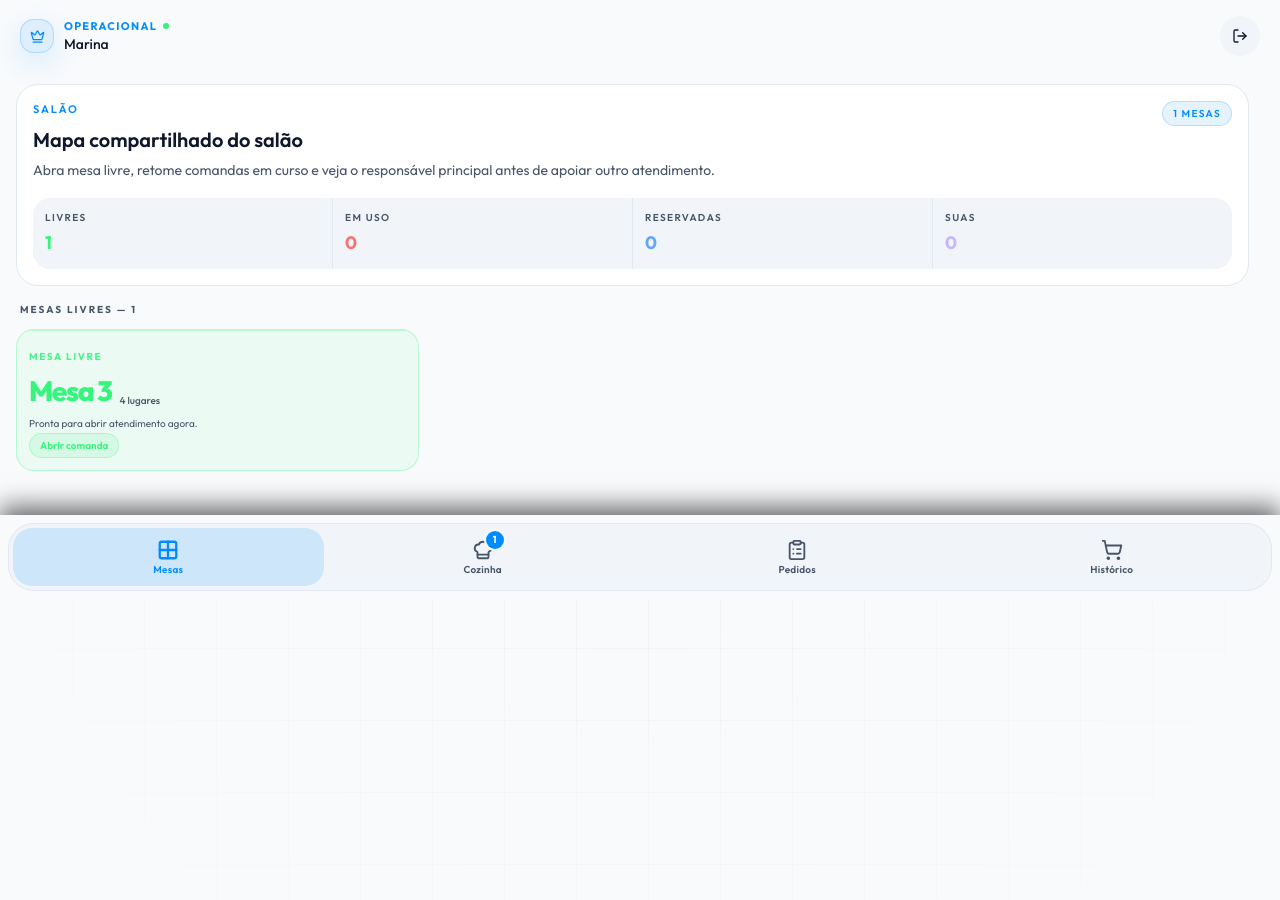
Scenario: StaffMobileShell › não tenta abrir caixa automaticamente quando o conflito é da mesa, não do caixa
This screenshot has width=1280, height=900.
Click the button with test id "mobile-mesa-mesa-3" at (66, 356), box 16,328 -> 419,470
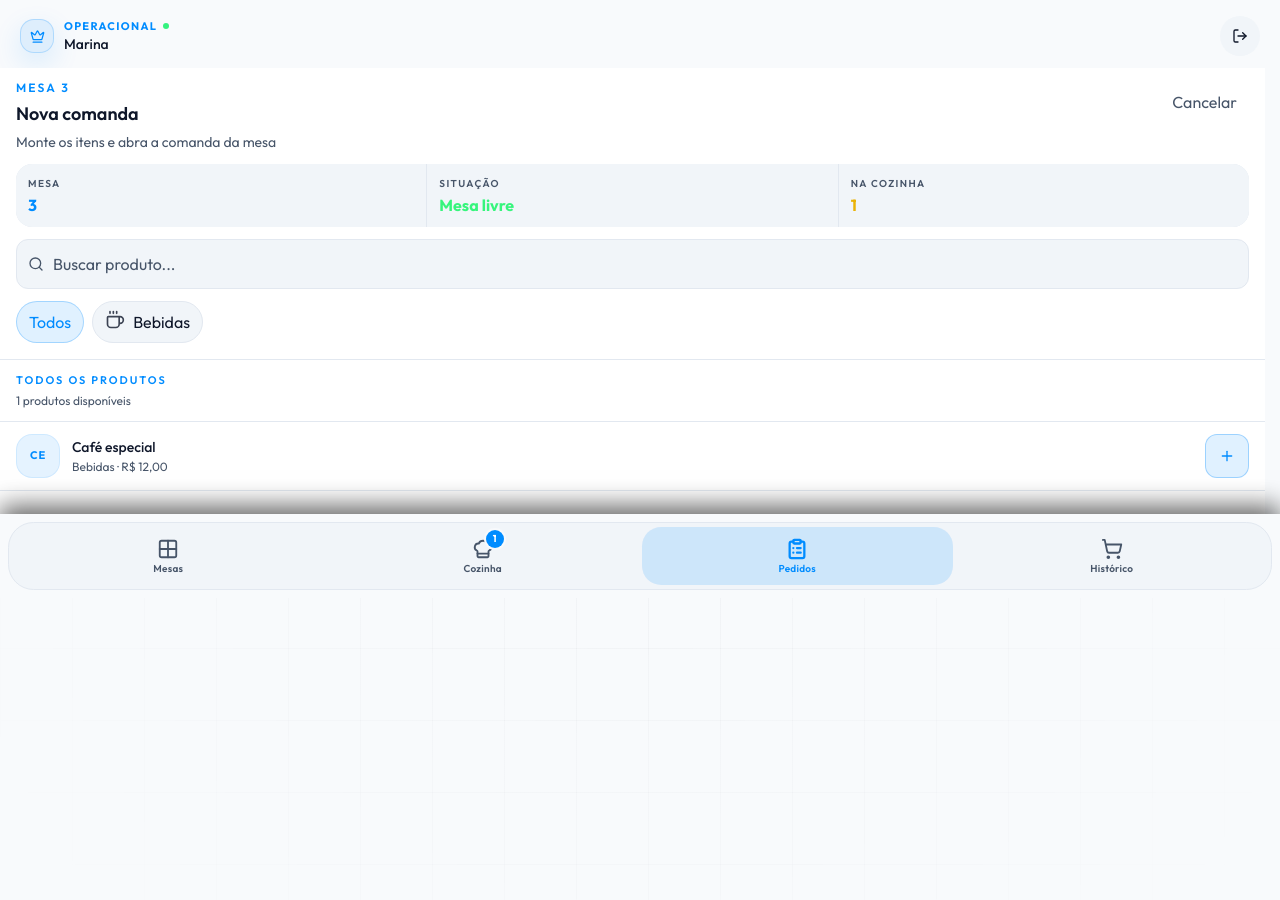
Click the button "Bebidas" at (148, 322), box 92,301 -> 203,343
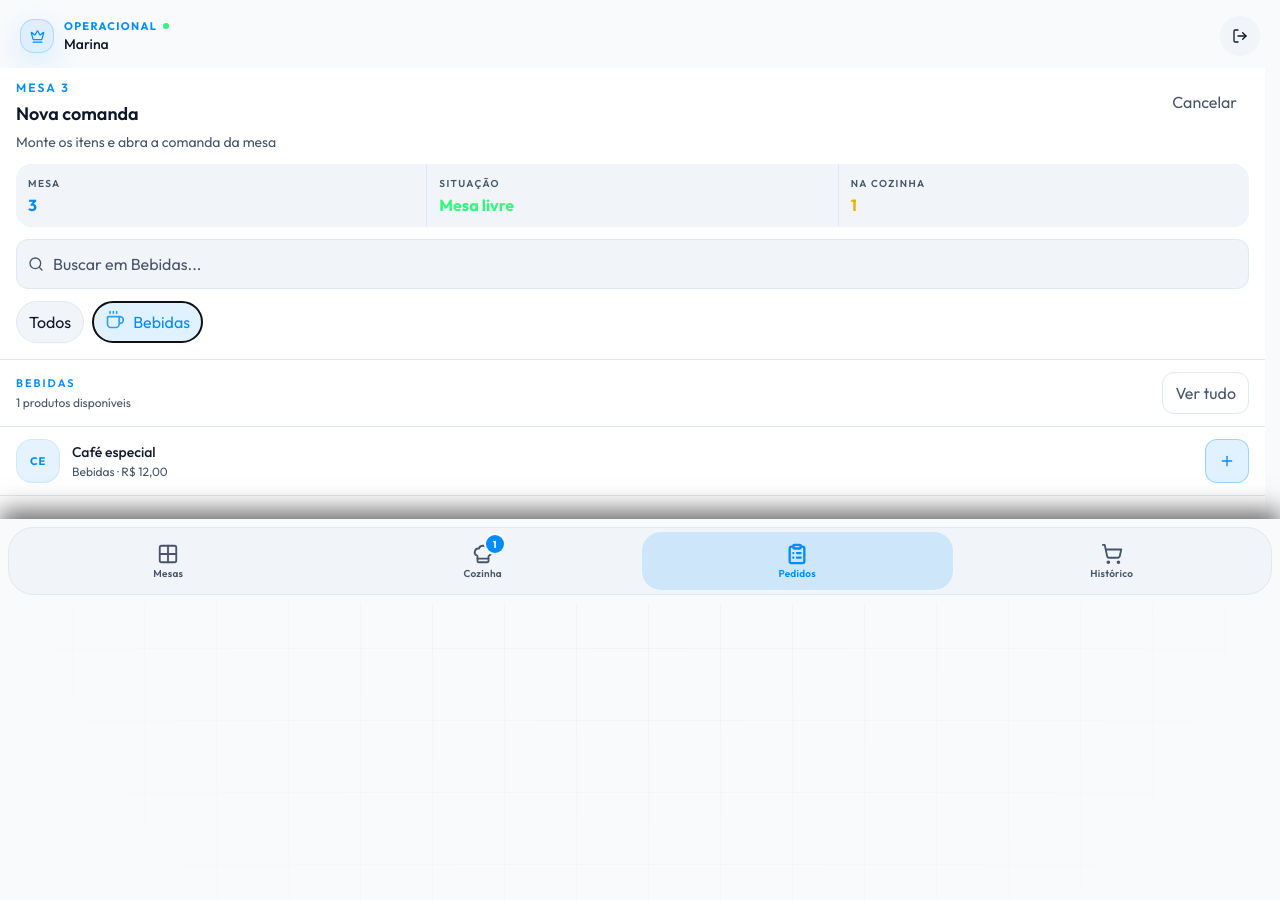
Click the button named "Adicionar Café especial" at (1227, 461), box 1205,439 -> 1249,483
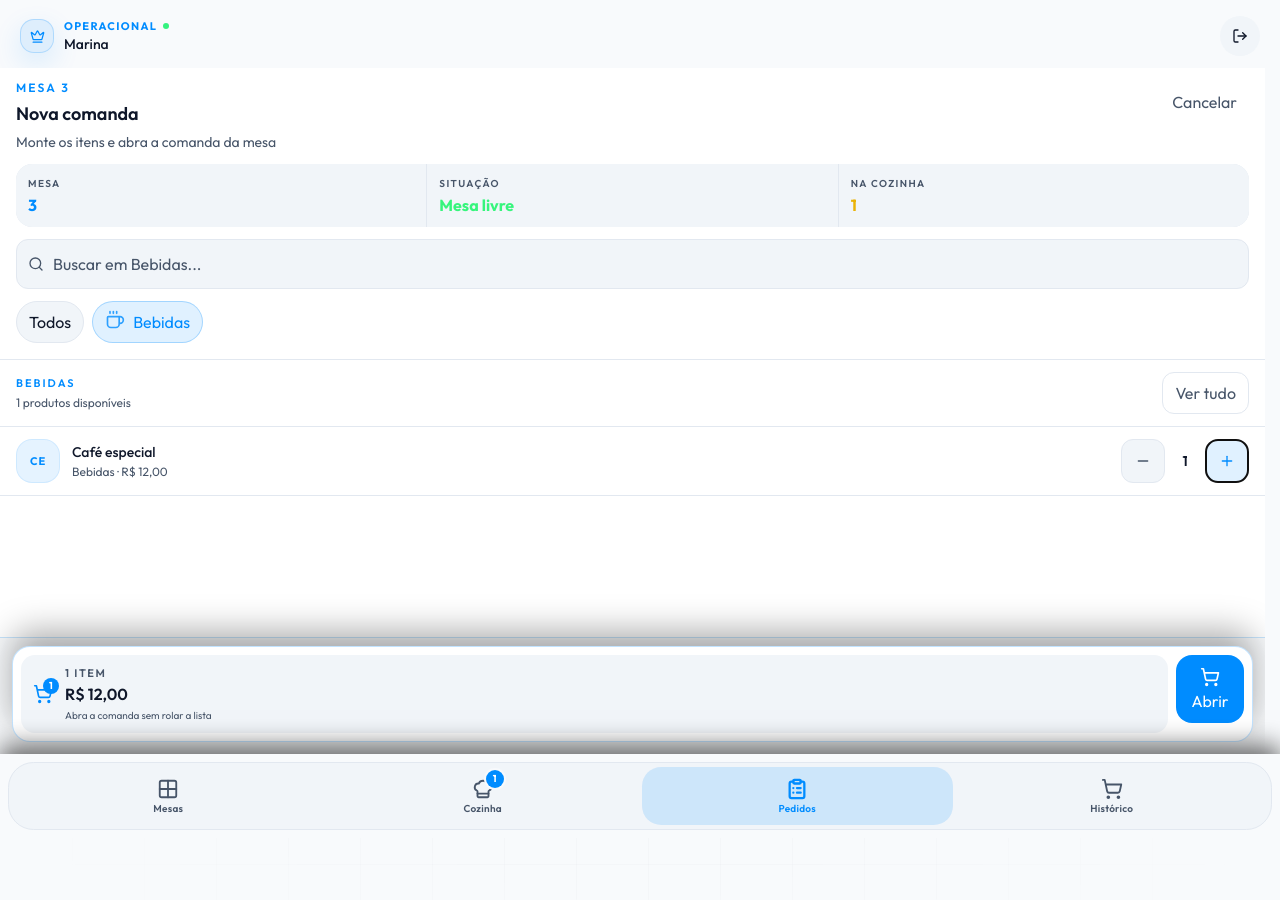
Click the button named "Abrir comanda" at (1210, 689), box 1176,655 -> 1244,723
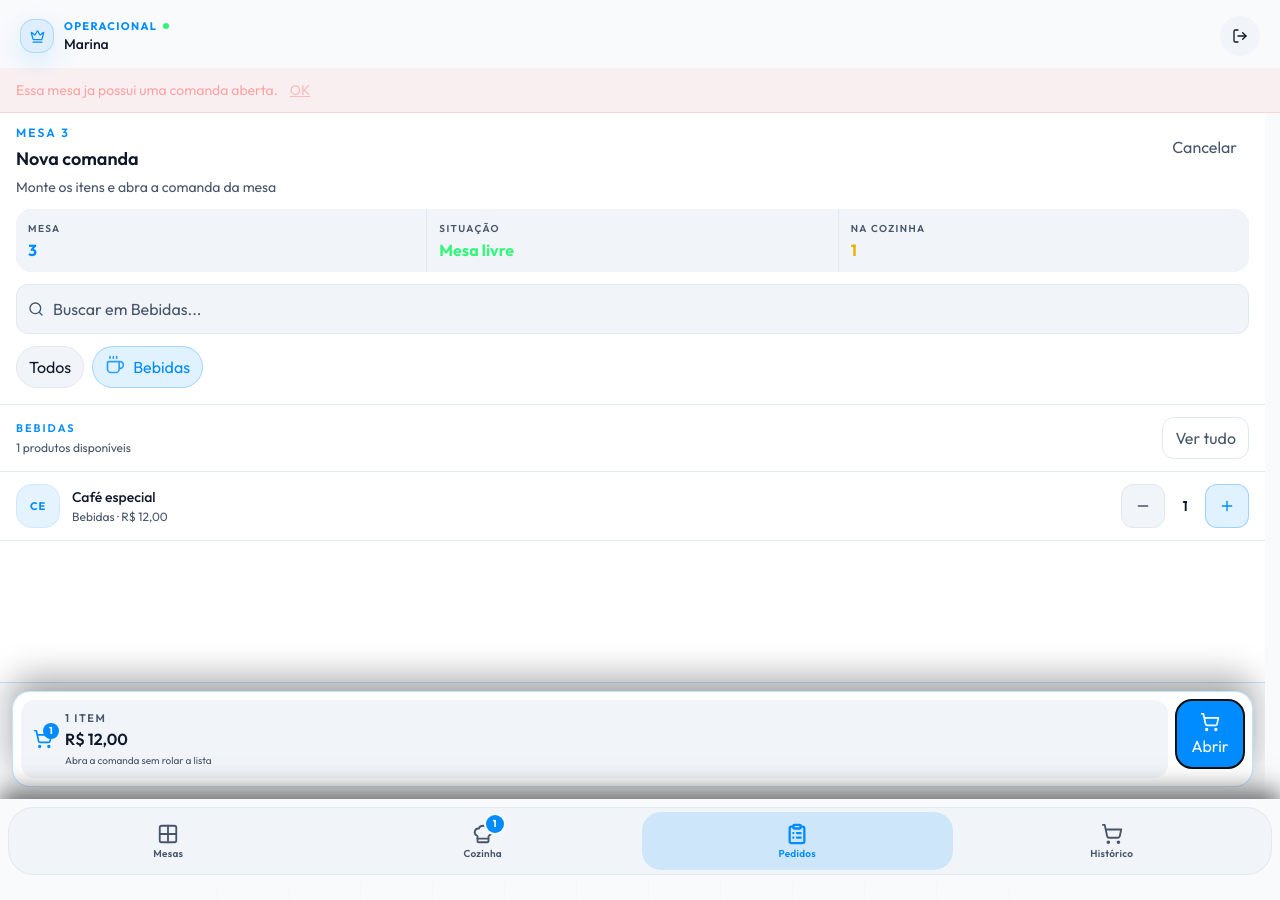
Now the text "Essa mesa ja possui uma comanda aberta. OK" is shown, box 0,68 -> 1279,113
